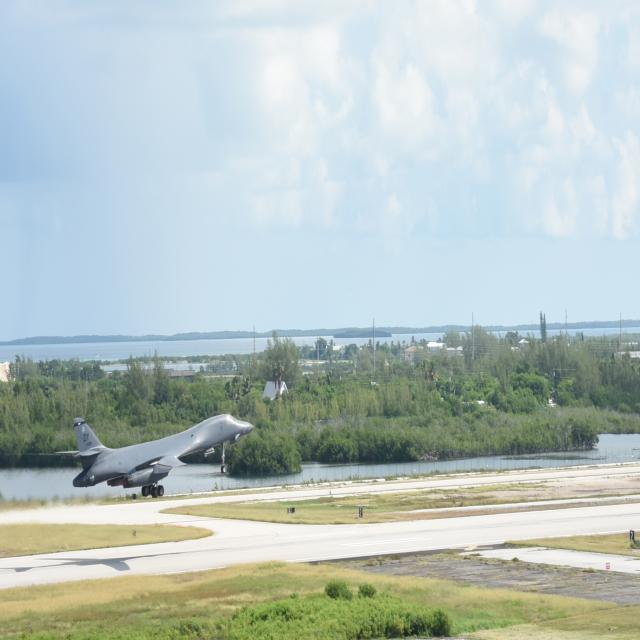MIL_Plane: (0, 413, 190, 498)
